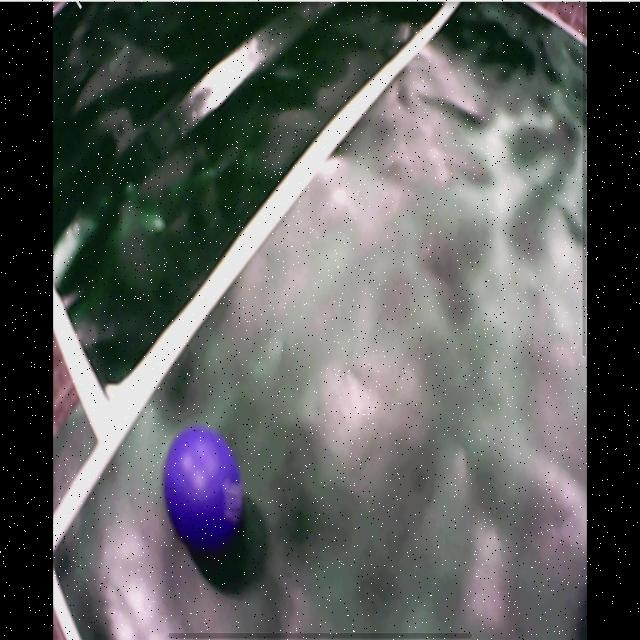ball: (164, 429, 245, 546)
